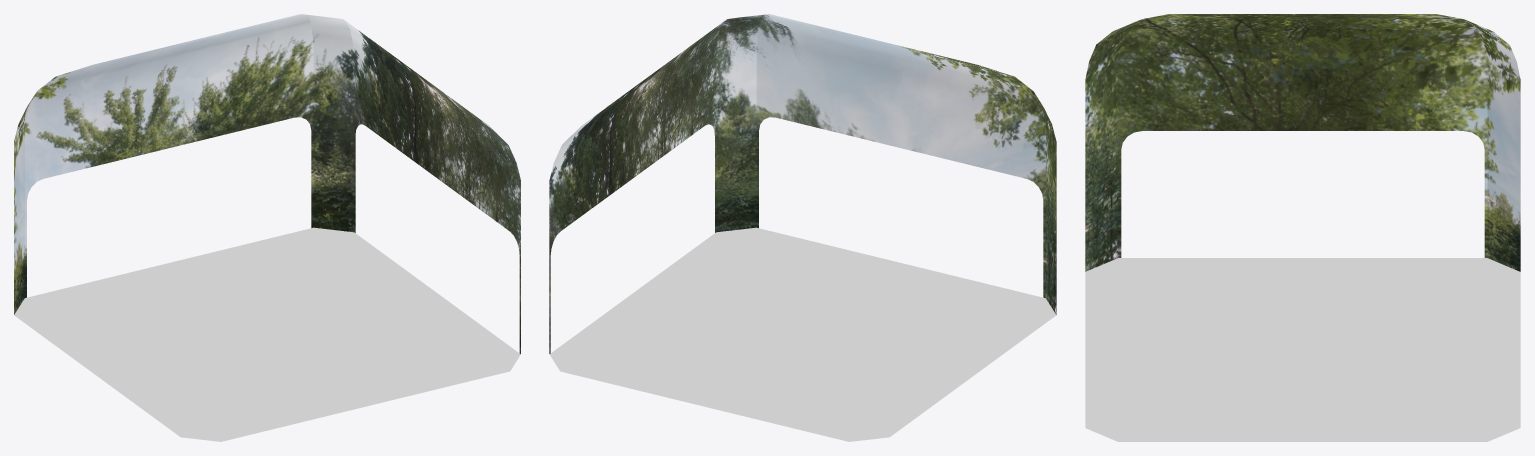
File: PZ_room4.glb
3 views of the same model, side by side, from view 1: azimuth 30°, elevation 25°; view 2: azimuth 150°, elevation 25°; view 3: azimuth 270°, elevation 25° (orthographic). The views are drawn at different scales.
Parts seen in each view (by area): view 1: Plane; view 2: Plane; view 3: Plane.
Part boxes in pixels (x1,y1,x2,y2): Plane: (14,14,520,441); Plane: (549,14,1056,441); Plane: (1085,14,1520,441).
Size of the model in its own units: 20.48 by 14.94 by 20.48.
Materials: 2 (1 with a texture image).
